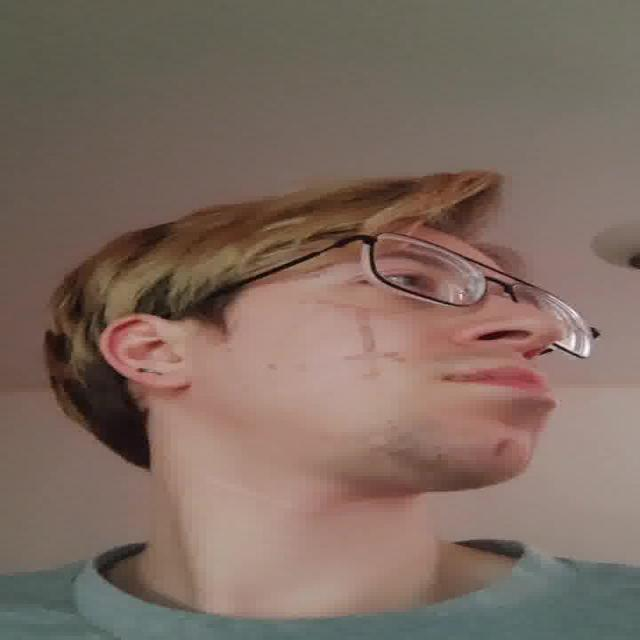earlobe: (100, 313, 192, 389)
